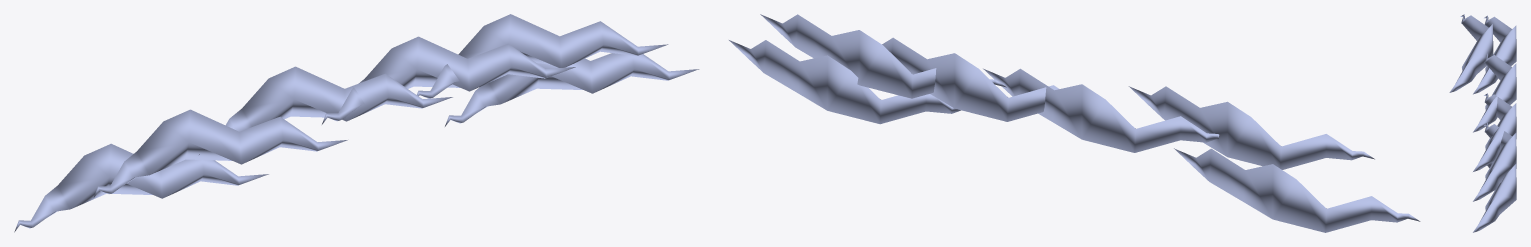
The model's file is fog.glb.
3 renders of one model, left to right at view 1: azimuth 30°, elevation 25°; view 2: azimuth 150°, elevation 25°; view 3: azimuth 270°, elevation 25°, orthographic. The views are drawn at different scales.
Visible parts, largest first — view 1: CombinedMesh; view 2: CombinedMesh; view 3: CombinedMesh.
Boxes of the visible parts, x1,y1,x2,y2 form: CombinedMesh: (14, 14, 699, 232); CombinedMesh: (729, 14, 1420, 232); CombinedMesh: (1449, 14, 1516, 232).
Bounding box in the file's own units: 22.05 × 2.68 × 2.89.
